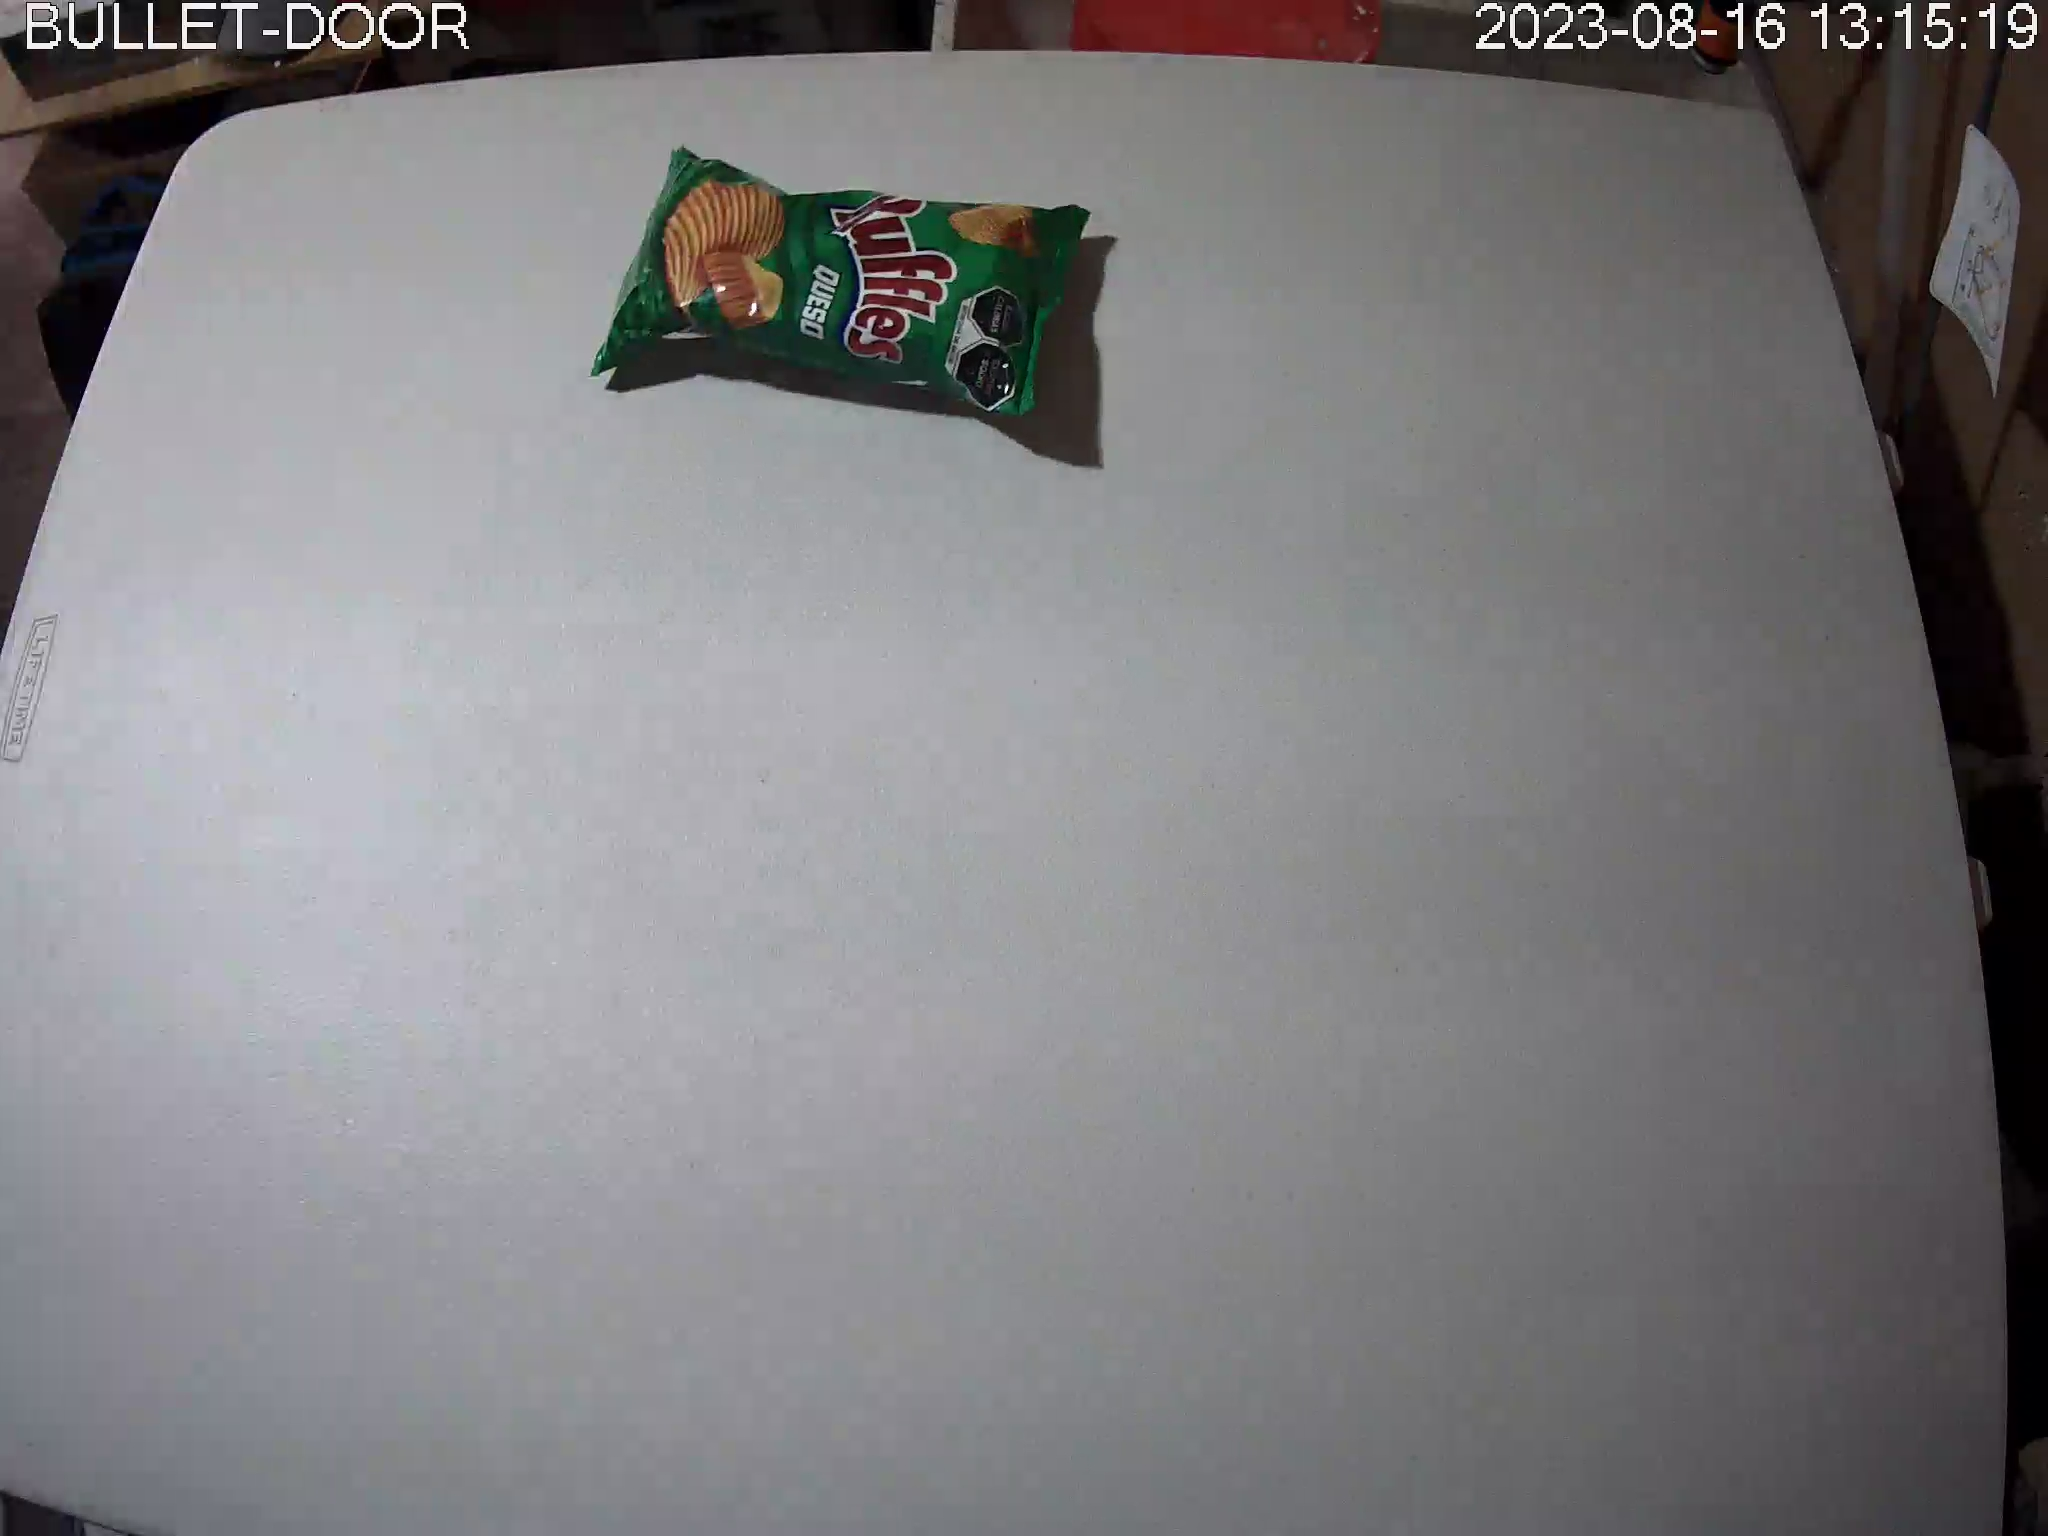RufflesQ_48_F: (590, 142, 1093, 428)
